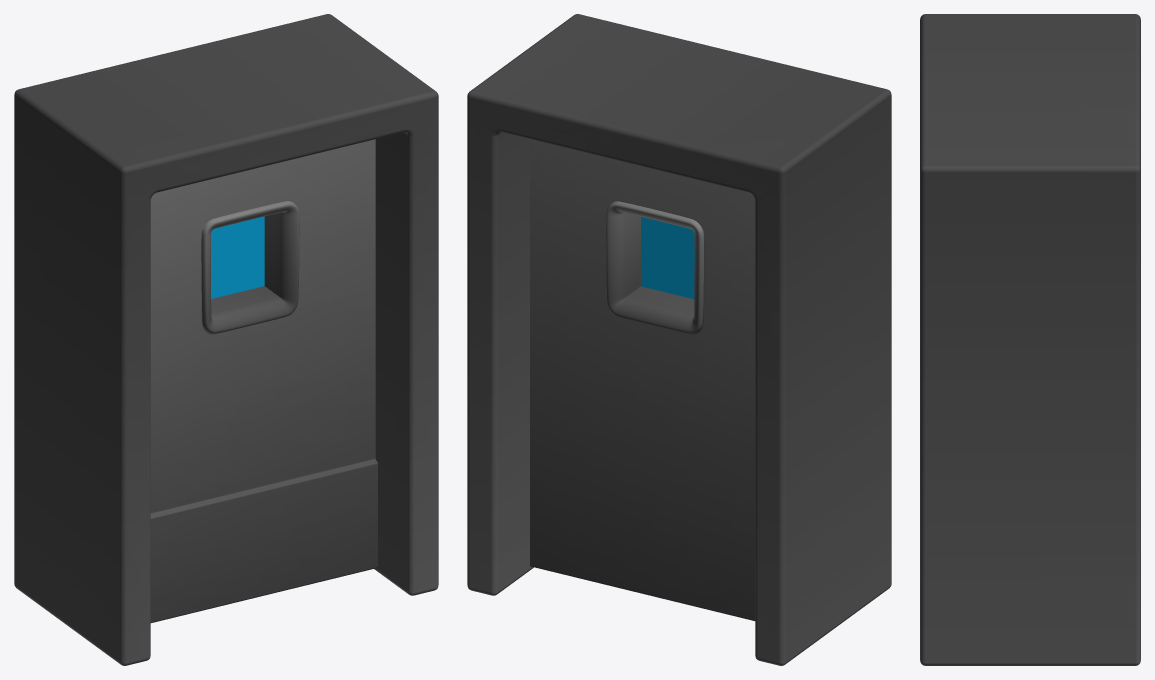
File: HH_Door.fbx
The picture shows the model from 3 angles, left to right: view 1: azimuth 30°, elevation 25°; view 2: azimuth 150°, elevation 25°; view 3: azimuth 270°, elevation 25°; orthographic projection.
Visible parts, largest first — view 1: DoorFrame, Door; view 2: DoorFrame, Door; view 3: DoorFrame.
Boxes of the visible parts, x1,y1,x2,y2 form: DoorFrame: [14, 14, 438, 665]; Door: [150, 139, 377, 622]; DoorFrame: [467, 14, 891, 665]; Door: [530, 139, 755, 620]; DoorFrame: [920, 14, 1140, 665].
Size of the model in its own units: 200 by 300 by 120.
2 materials, 1 textured.
